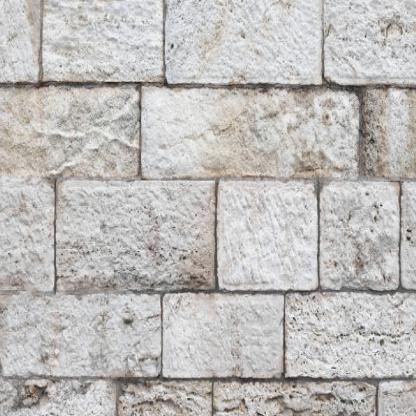Sedimentary_Sandstone: (134, 80, 365, 184), (49, 164, 220, 297), (0, 57, 140, 183), (0, 280, 164, 386), (161, 0, 330, 86), (155, 280, 288, 388), (216, 171, 323, 298), (321, 157, 405, 302), (39, 0, 166, 86)
